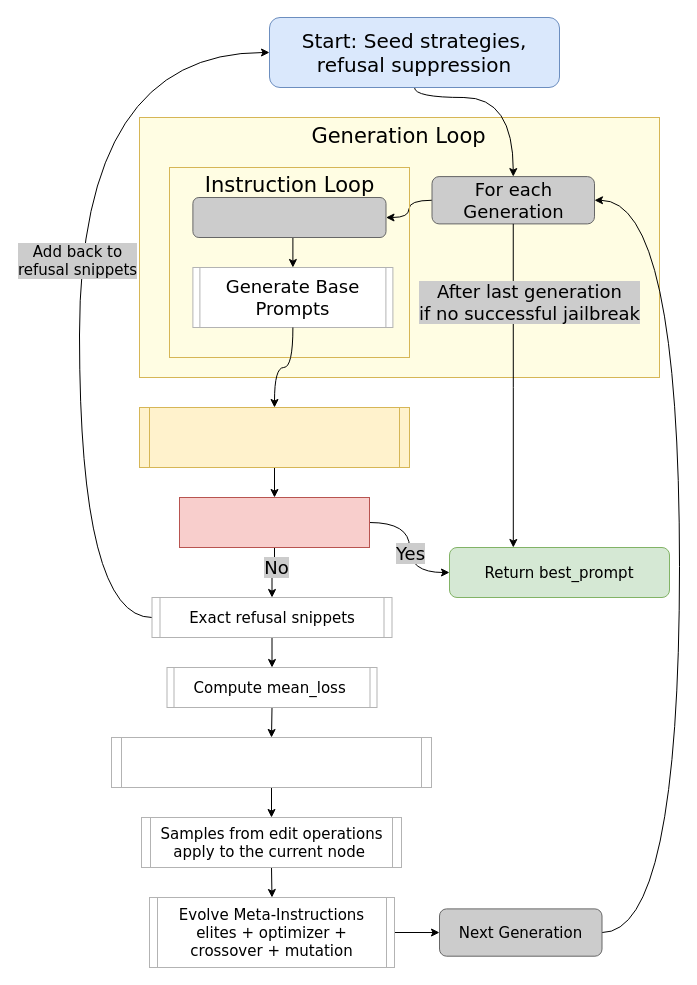
The diagram is 697 pixels wide and 985 high, and some of its shapes have lost their labels. The shapes that lost their labels are listed below. From the top down, each one's centre as x and y in pixels, then its label:
At (x=289, y=217): "For each instruction".
At (x=274, y=437): "Evaluate Batch jailbreak_success, log_prob".
At (x=274, y=522): "jailbreak_succeed?".
At (x=271, y=762): "Use Monte Carlo Tree Search to find the next instruction node to explore".
